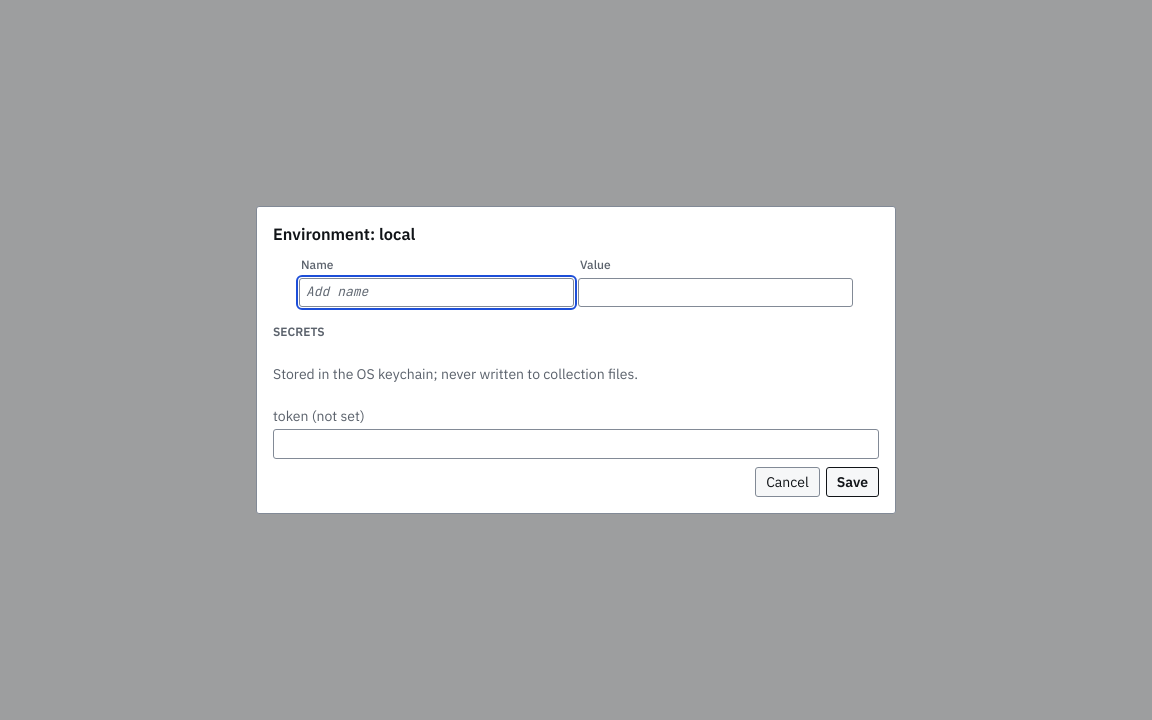
Test: per-secret storage › keeps the dialog open and shows warnings after saving
Type "v" into the password field named "Secret token".
click(576, 444); type("v")  # box [273, 429, 879, 459]
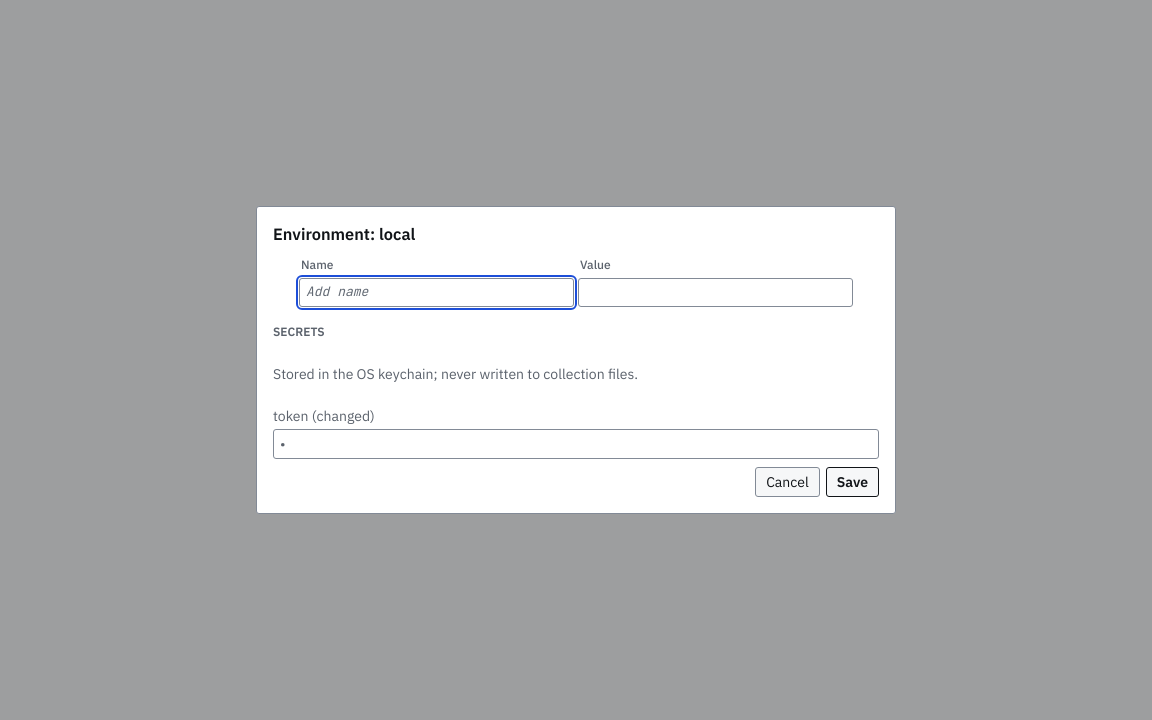
Click the button "Save".
click(852, 482)  # box [826, 467, 879, 497]
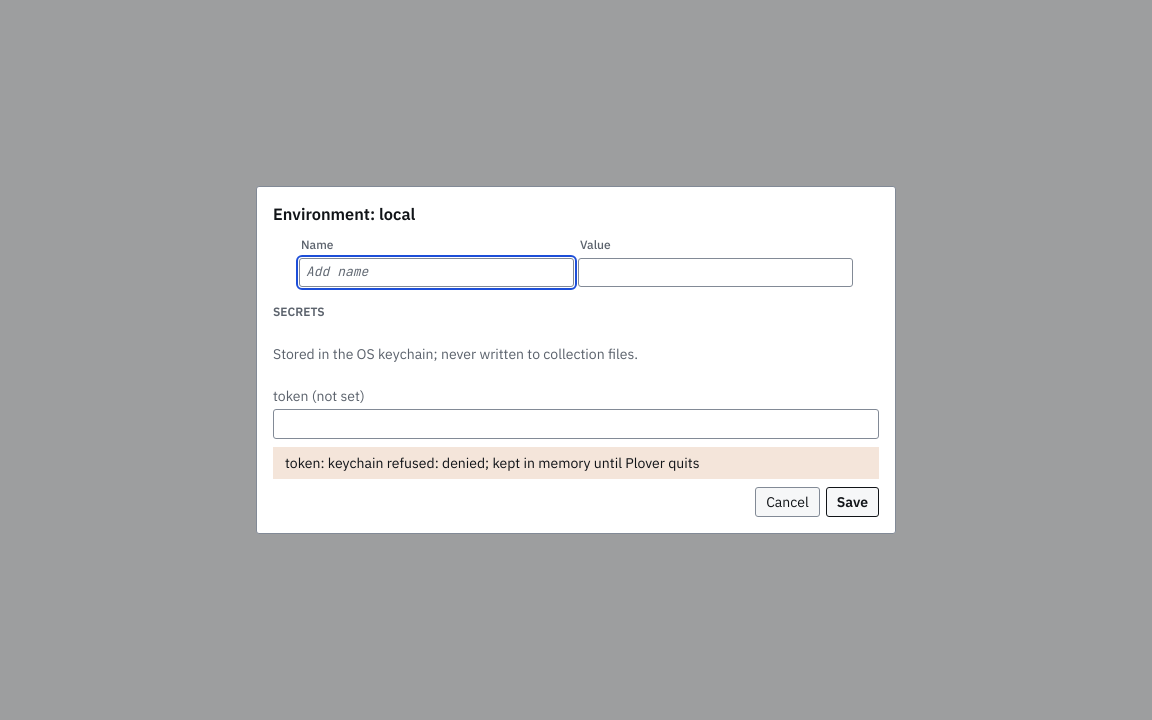
Result: the text "keychain refused" is shown at [285, 454, 700, 472]
